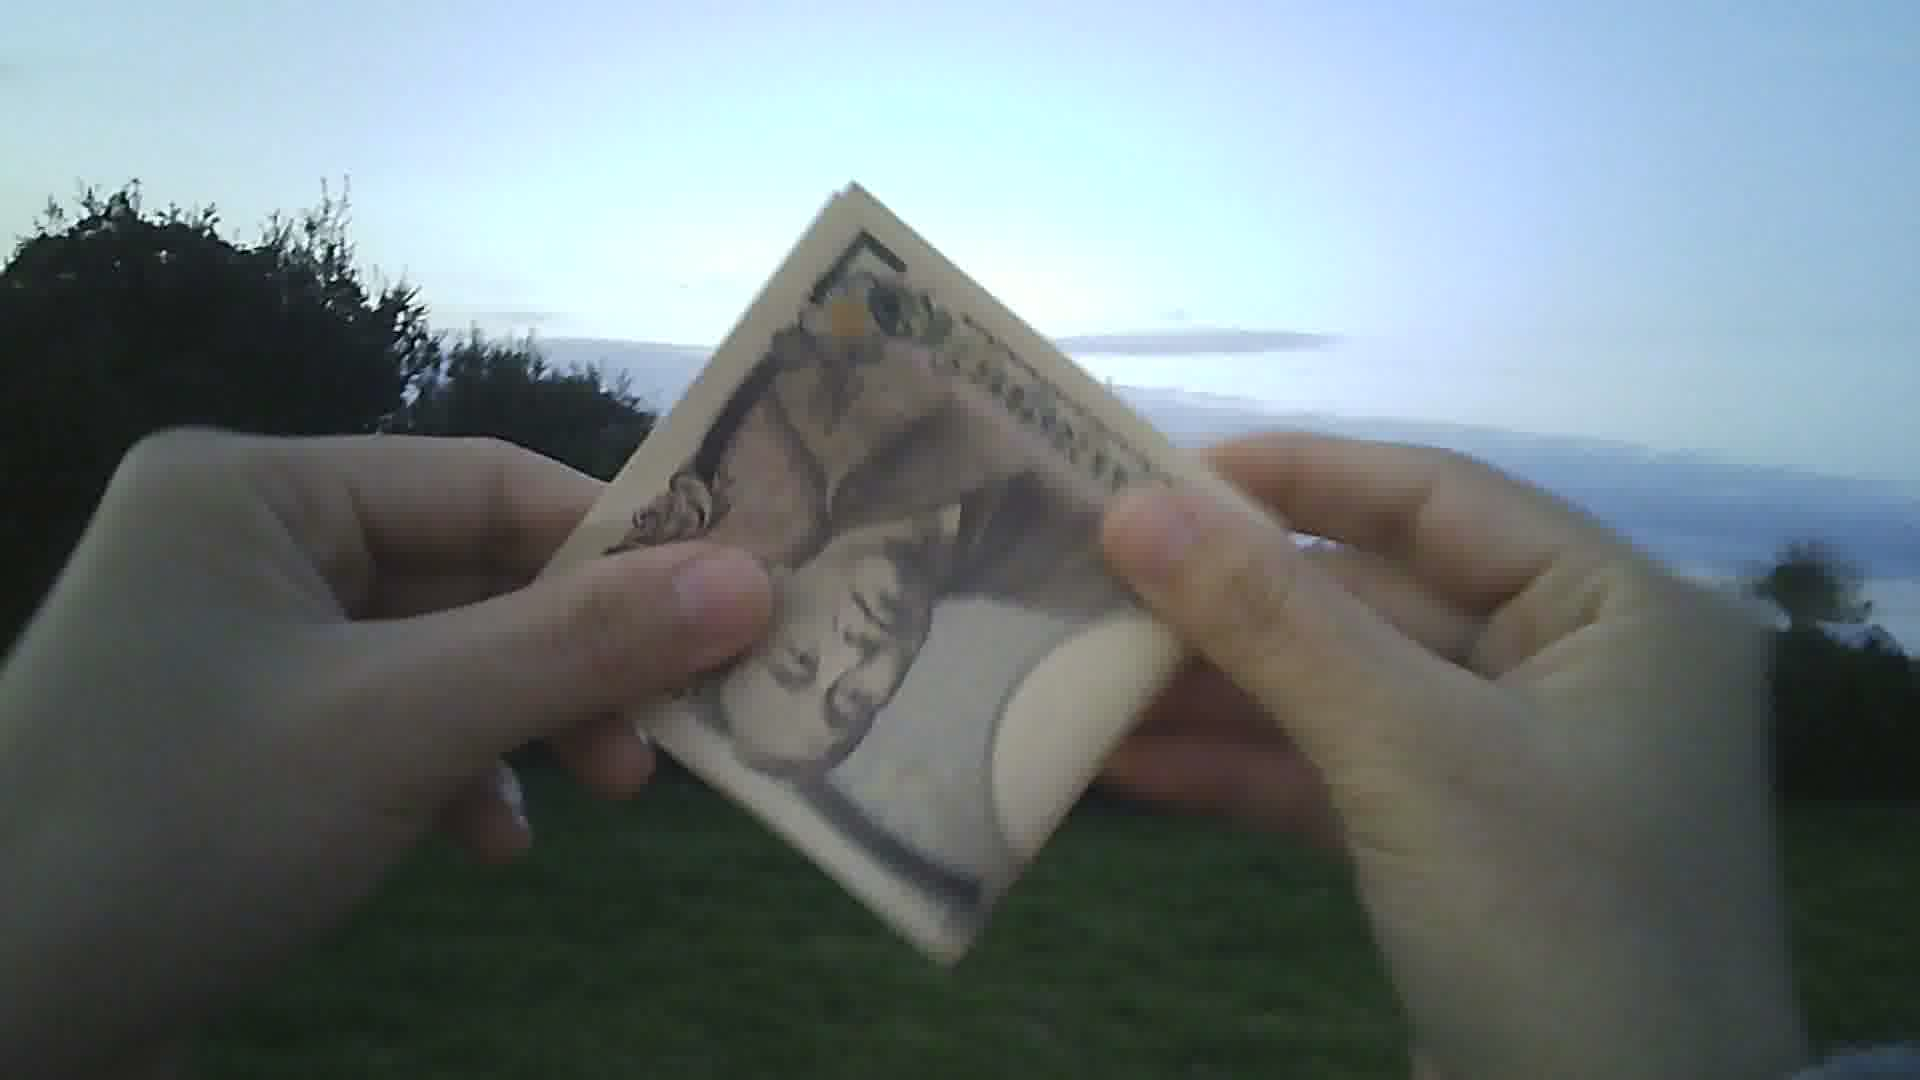10,000 Yen: (551, 178, 1302, 967)
